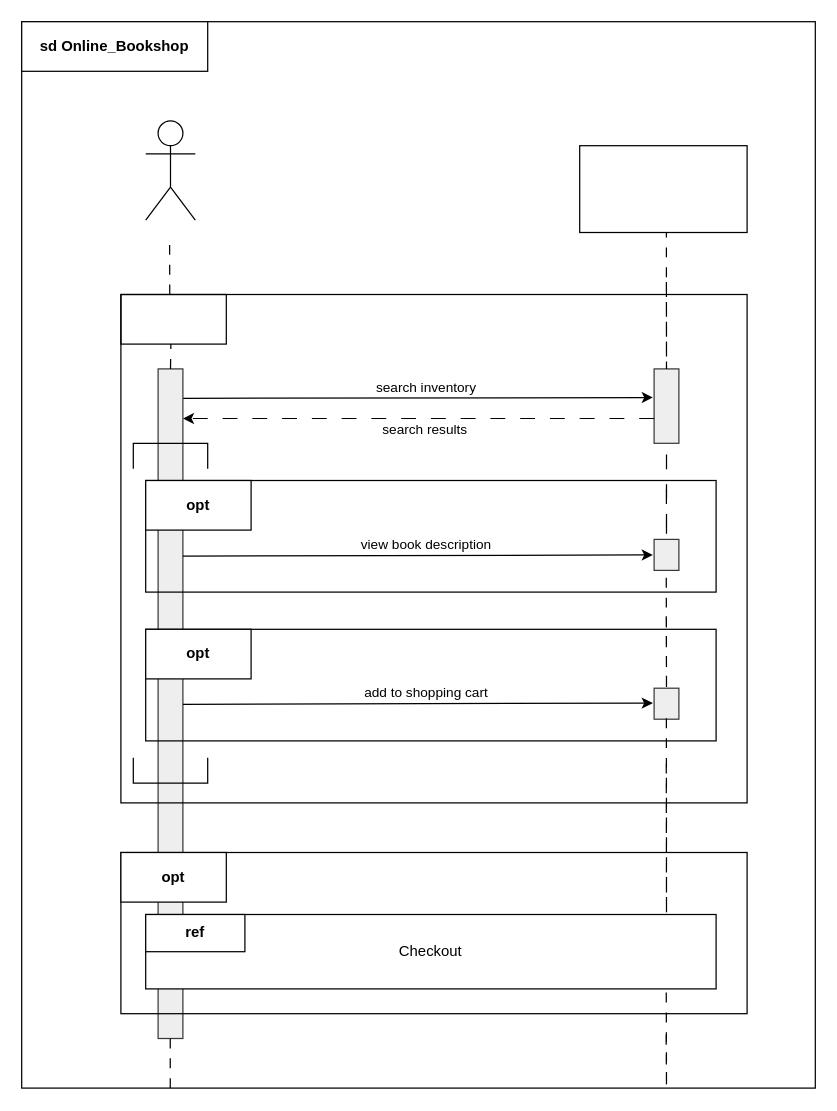
Some shapes in this 837 by 1111 pixel diagram are drawn without their labels. The shapes that lost their labels are listed below. From the top down, each one's centre as x and y in pixels, then its label:
At [169,170]: ":Web Customer".
At [662,188]: ":Online Bookshop".
At [173,318]: "loop".
